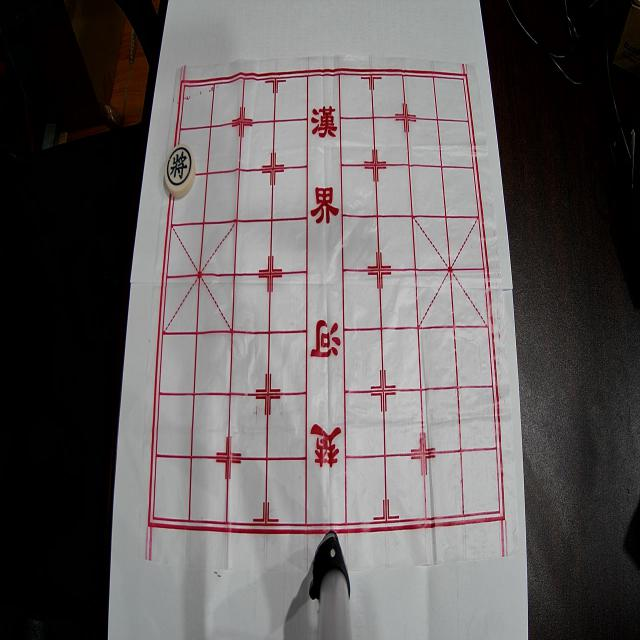black-general: (164, 144, 196, 198)
